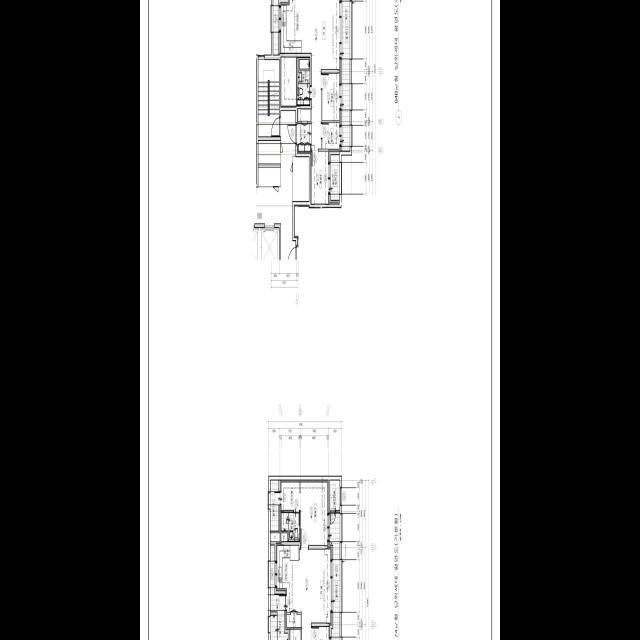background: (140, 0, 500, 640)
space_balconi: (270, 545, 288, 640), (330, 512, 340, 640), (342, 0, 350, 150), (270, 480, 279, 530), (331, 154, 339, 199), (273, 0, 278, 54)
space_bedroom: (301, 480, 328, 545), (311, 151, 329, 203), (322, 73, 340, 120), (312, 626, 330, 640)
space_dressroom: (280, 480, 300, 510)
space_elevator: (260, 227, 279, 259), (253, 227, 259, 259)
space_elevator_hall: (256, 110, 296, 259)
space_front: (297, 108, 312, 152)
space_kitchen: (276, 543, 299, 611), (280, 0, 308, 52)
space_living_room: (309, 0, 340, 148), (300, 547, 331, 640)
space_other: (281, 57, 296, 106), (293, 156, 309, 201), (258, 140, 281, 163), (322, 122, 340, 151), (258, 167, 281, 186), (286, 614, 301, 629), (290, 629, 301, 640), (271, 532, 280, 541), (281, 532, 287, 541)
space_outdoor_room: (330, 480, 340, 509)
space_staircase: (258, 59, 279, 136)
space_toilet: (297, 57, 310, 104), (281, 512, 299, 540)
